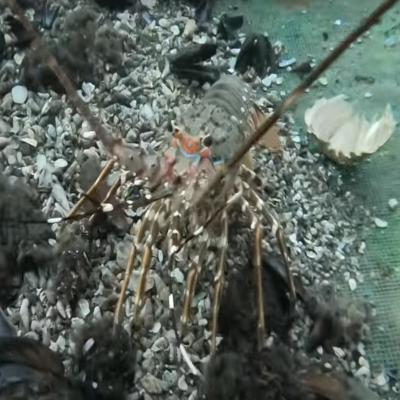lobster: (137, 74, 270, 314)
